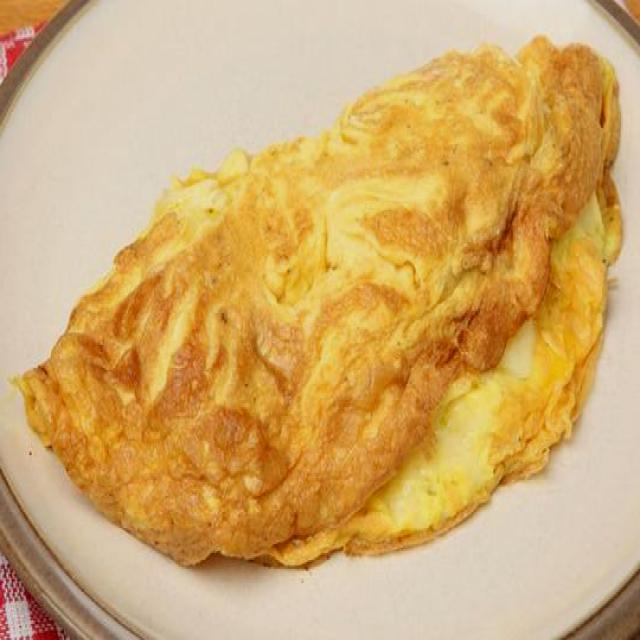omelette: (14, 39, 640, 523)
